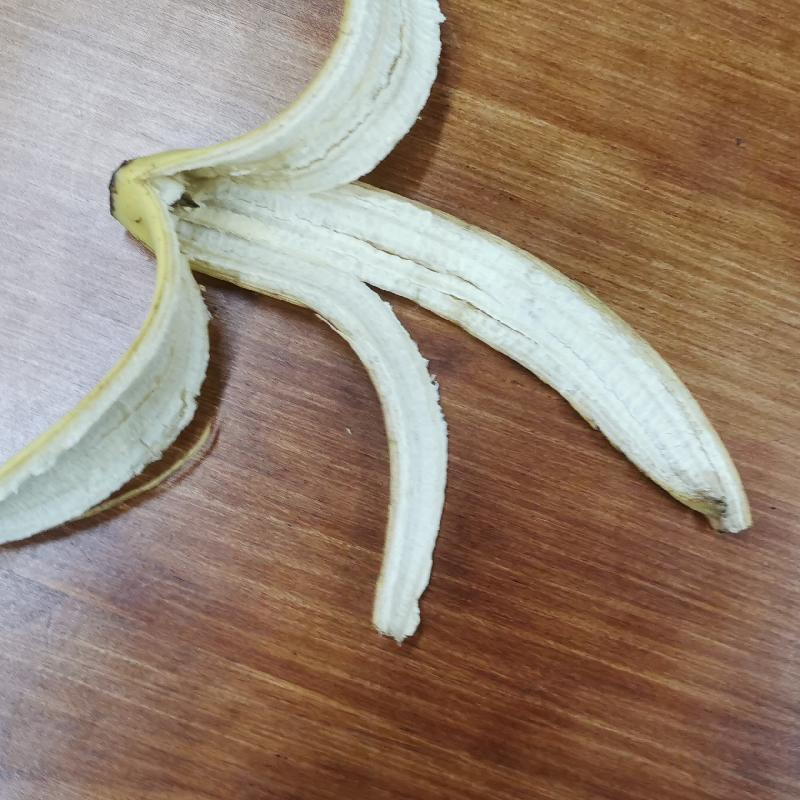bananas: (0, 0, 759, 637)
